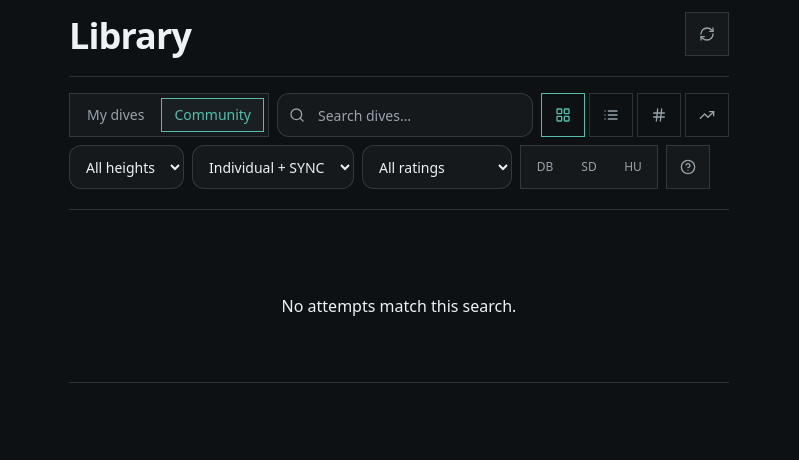
Test: only offers clear filters in an empty community library when a filter is active
Check: the text "No attempts match this search." is shown, box [282,295,516,317]
Check: the button "Clear filters" is not shown
Type "103B" into the field labelled "Search dives" at {"x": 405, "y": 115}, box [277,93,533,137]
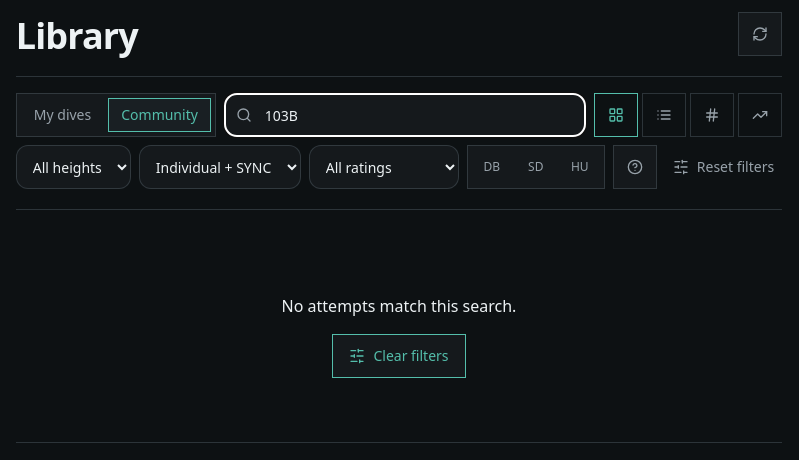
Click the button "Clear filters" at {"x": 399, "y": 356}, box [332,334,466,378]
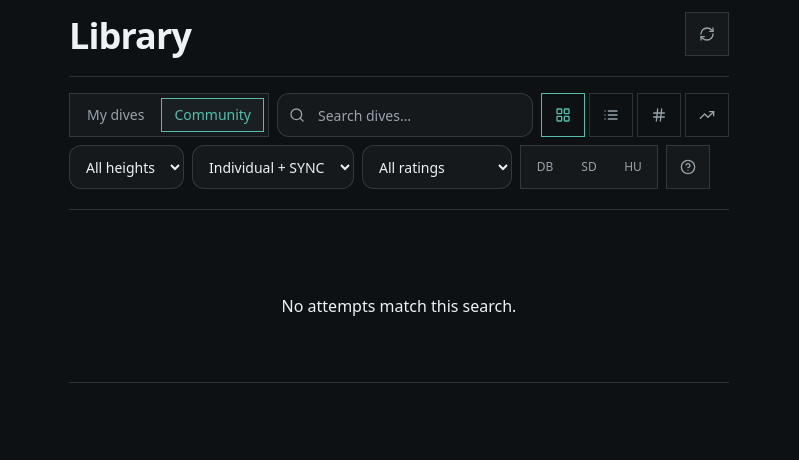
Check: the field labelled "Search dives" is empty, box [277,93,533,137]
